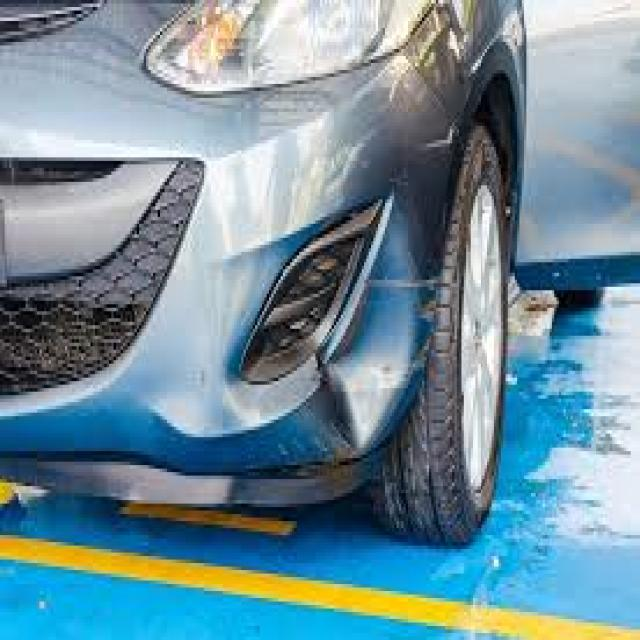minor: (207, 130, 472, 590)
